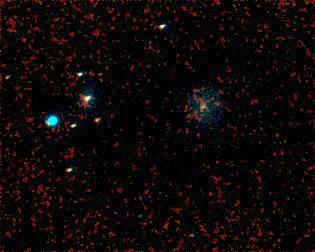star: (203, 88, 233, 118)
